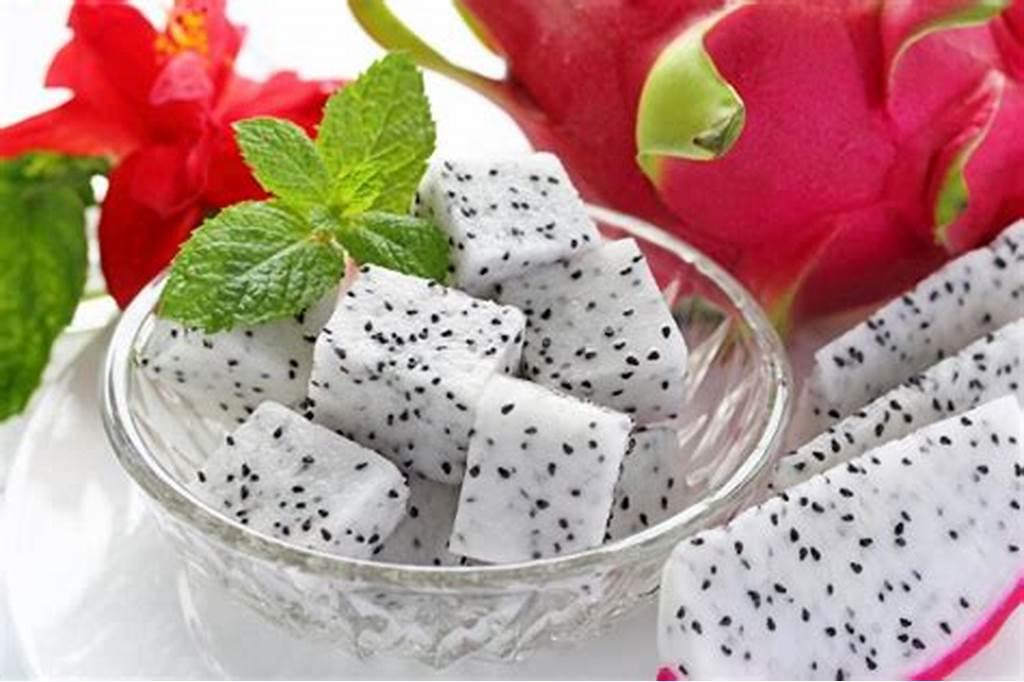dragon-fruit: (655, 395, 1024, 679), (299, 280, 523, 463), (161, 407, 443, 552), (449, 386, 643, 563), (522, 231, 701, 386), (416, 147, 606, 285)
